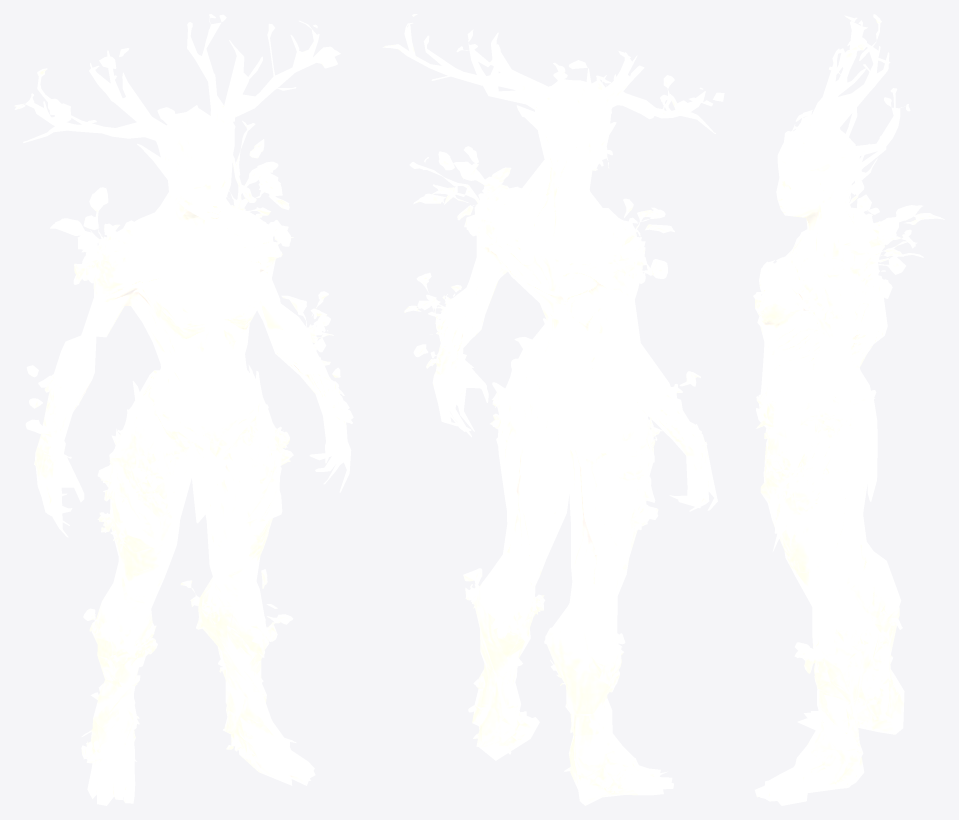
File: boss2.glb
3 views of the same model, side by side, from view 1: azimuth 30°, elevation 25°; view 2: azimuth 150°, elevation 25°; view 3: azimuth 270°, elevation 25° (orthographic). The views are drawn at different scales.
Parts seen in each view (by area): view 1: Object_5; view 2: Object_5; view 3: Object_5.
Part boxes in pixels (x1,y1,x2,y2): Object_5: (14,14,353,805); Object_5: (382,14,724,805); Object_5: (753,14,944,805).
Size of the model in its own units: 0.8988 by 1.9 by 0.4749.
1 material, 1 textured.
